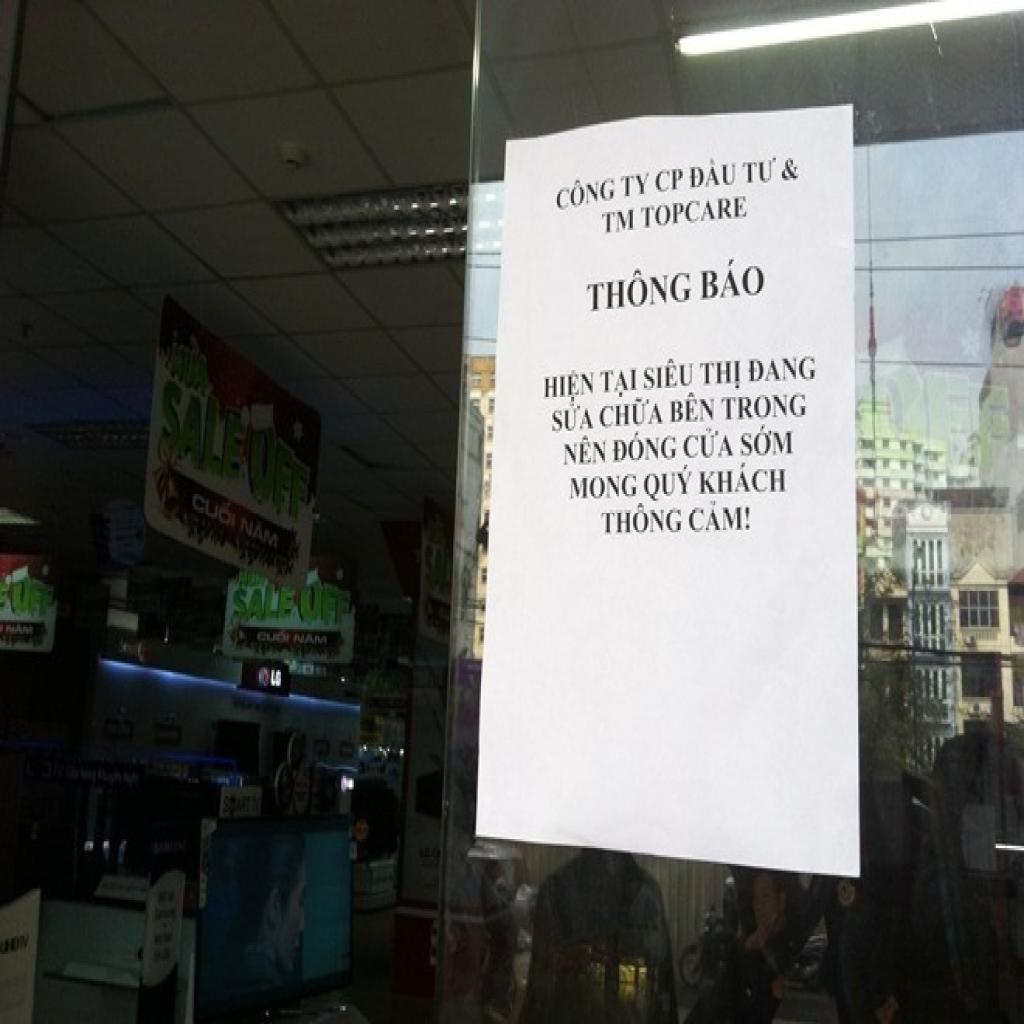text: (158, 370, 252, 485), (242, 415, 315, 530), (582, 257, 695, 318), (639, 192, 753, 232), (598, 498, 684, 542), (720, 388, 811, 426), (698, 255, 768, 304), (698, 462, 790, 498), (551, 169, 619, 217), (610, 424, 681, 467), (169, 332, 213, 399), (568, 467, 641, 507), (296, 580, 356, 627), (599, 393, 669, 433), (231, 584, 298, 625), (542, 363, 598, 411), (191, 478, 240, 532), (644, 462, 698, 508), (738, 420, 796, 462), (11, 571, 59, 620), (642, 352, 695, 395), (748, 356, 819, 386), (681, 426, 740, 462), (667, 388, 720, 428), (560, 431, 610, 471), (688, 156, 738, 194), (698, 356, 745, 395), (239, 510, 281, 552), (549, 402, 599, 436), (599, 361, 641, 401), (742, 151, 780, 190), (599, 203, 638, 241), (619, 167, 653, 201), (655, 162, 686, 196), (256, 627, 293, 647), (237, 568, 267, 591), (3, 622, 40, 640), (292, 632, 330, 648), (268, 666, 284, 690)
